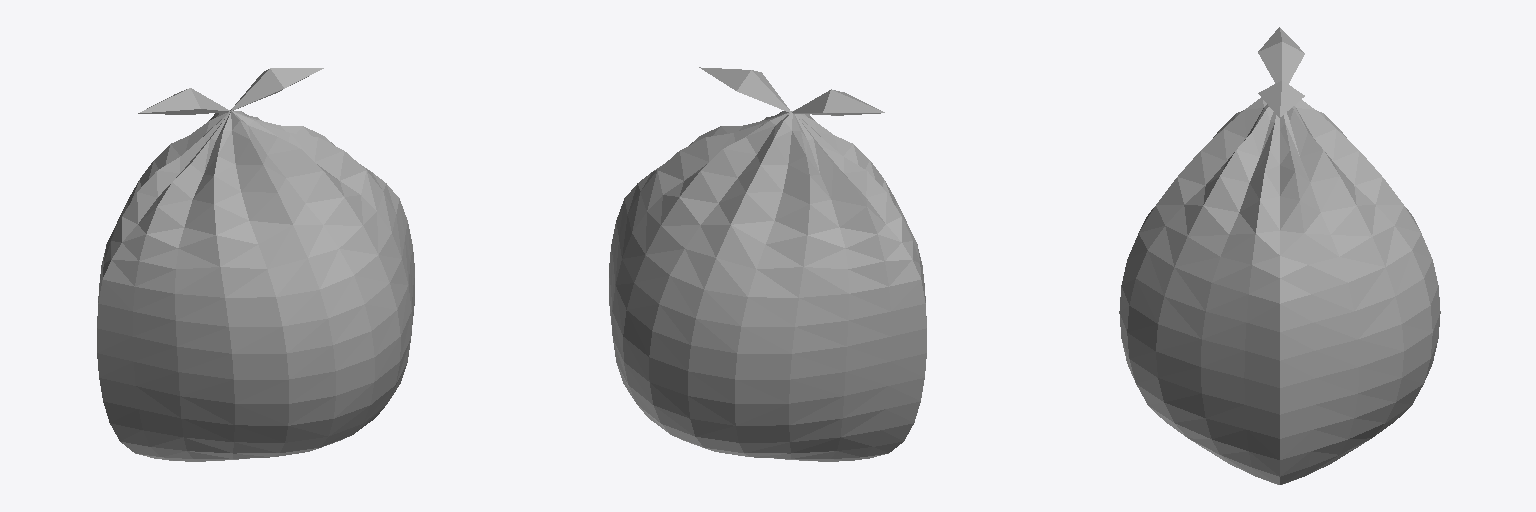
The model's file is model_questboard_garbage01.obj.
The picture shows the model from 3 angles: view 1: azimuth 30°, elevation 25°; view 2: azimuth 150°, elevation 25°; view 3: azimuth 270°, elevation 25°; orthographic projection.
Parts seen in each view (by area): view 1: group1 pSphere1, pPyramid1 group1, group1 pPyramid2; view 2: group1 pSphere1, pPyramid1 group1, group1 pPyramid2; view 3: group1 pSphere1, group1 pPyramid2, pPyramid1 group1.
Boxes of the visible parts, box(x1,y1,x2,y2) form: group1 pSphere1: box(97, 111, 414, 461); pPyramid1 group1: box(230, 68, 323, 110); group1 pPyramid2: box(138, 88, 229, 114); group1 pSphere1: box(609, 110, 926, 461); pPyramid1 group1: box(699, 67, 790, 112); group1 pPyramid2: box(792, 89, 884, 115); group1 pSphere1: box(1119, 97, 1440, 484); group1 pPyramid2: box(1258, 27, 1304, 83); pPyramid1 group1: box(1258, 80, 1304, 117).
Bounding box in the file's own units: 1.48 × 1.62 × 1.29.